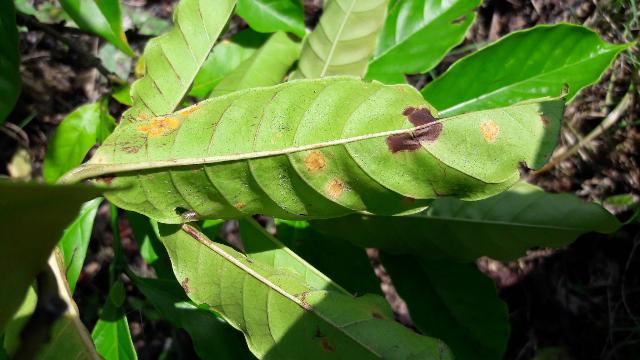rust_level_1: (81, 81, 564, 225)
